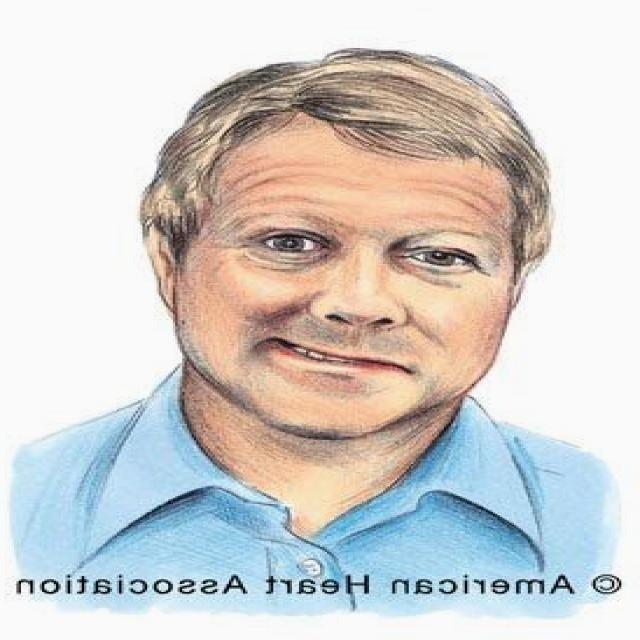stroke_face: (172, 86, 502, 413)
